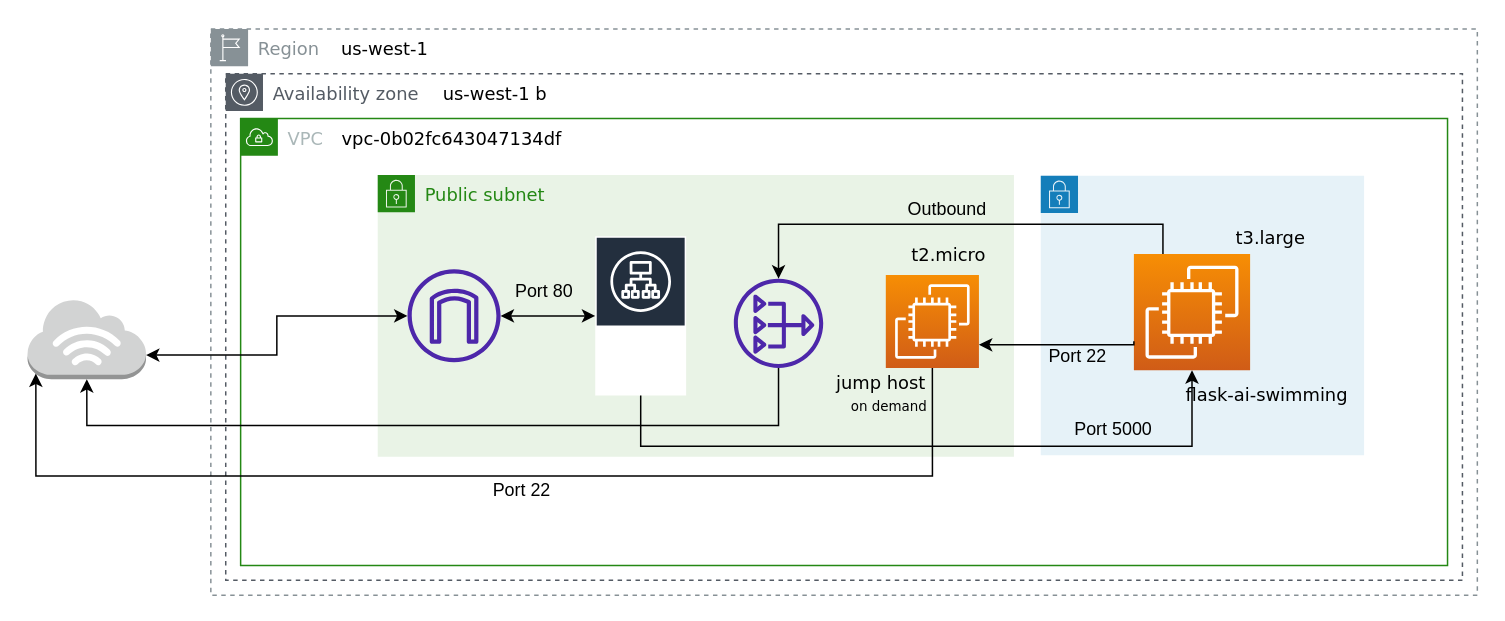
This 1505x621 diagram has some shape labels left out. Here are the shapes that lost their labels. From the top down, the box of each, then its label:
(594, 235, 686, 396): Application Load Balancer
(1039, 174, 1364, 455): Private subnet
